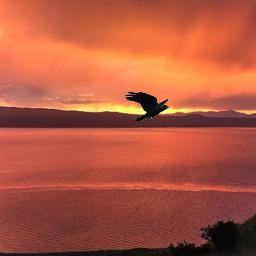Crow: (124, 91, 170, 121)
